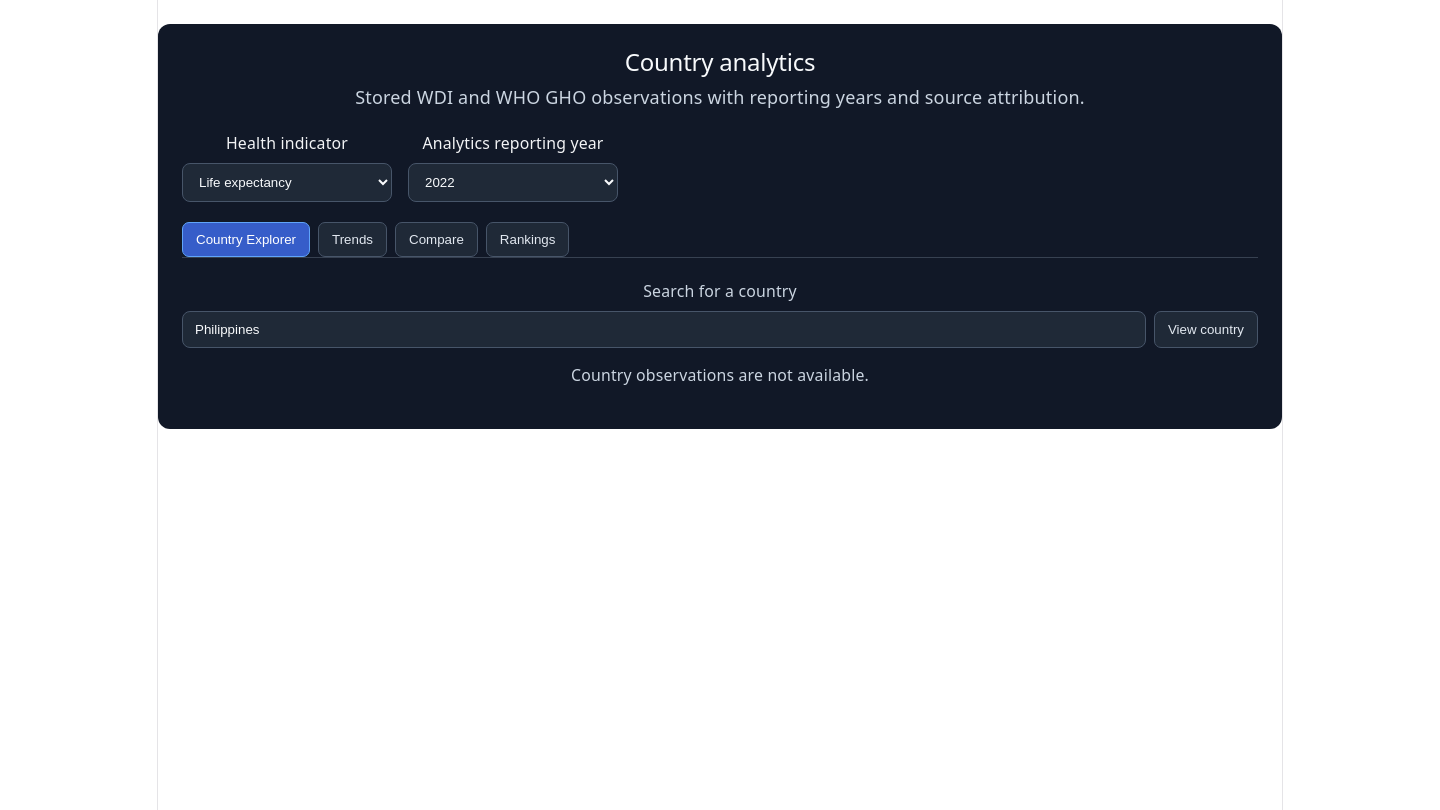
global analytics › labels absolute healthcare-expenditure differences as percentage points
Step 1. Click the tab "Compare" → (436, 239), box [395,222,478,256]
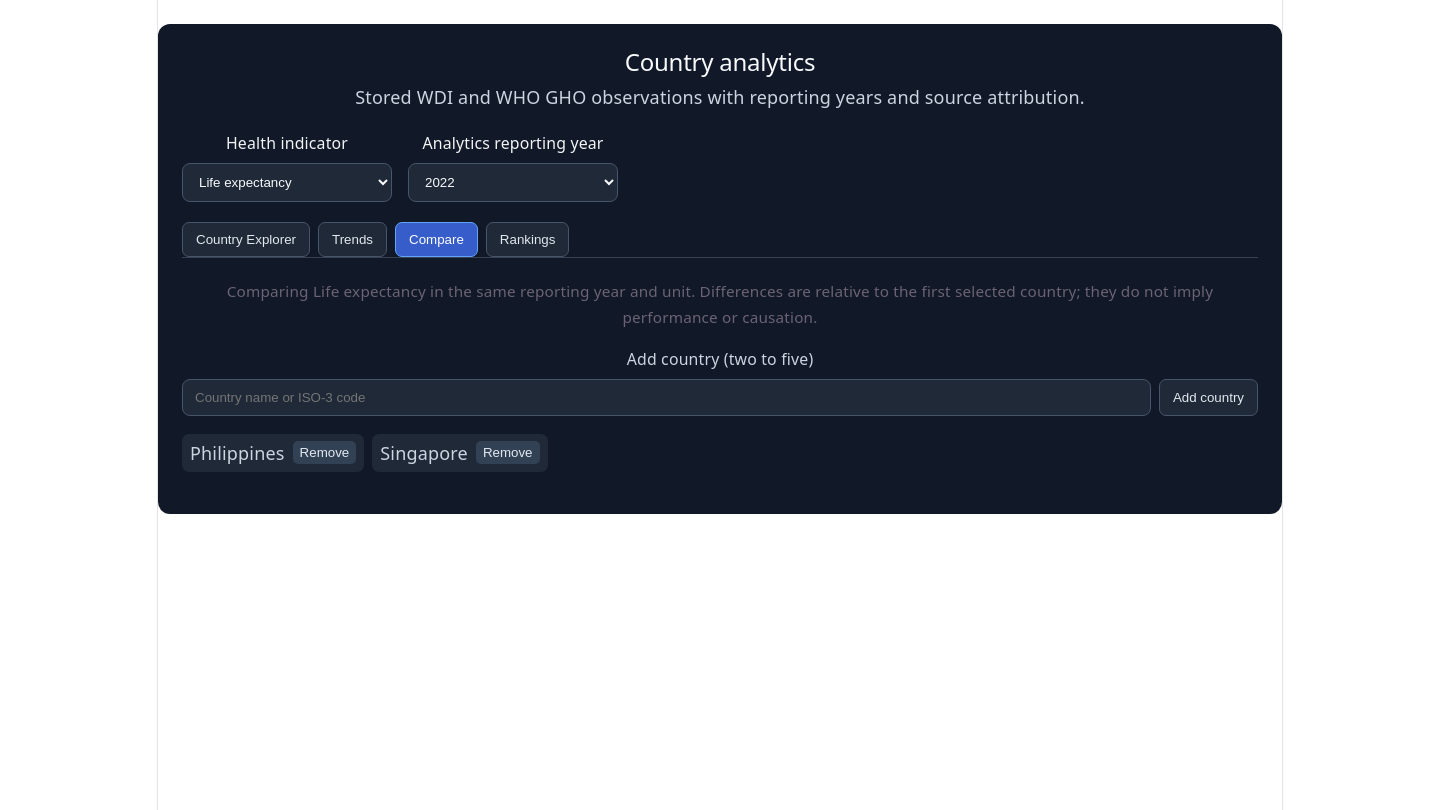
Step 2. Select "Health expenditure" in the dropdown labelled "Health indicator" → (287, 182), box [182,162,392,202]
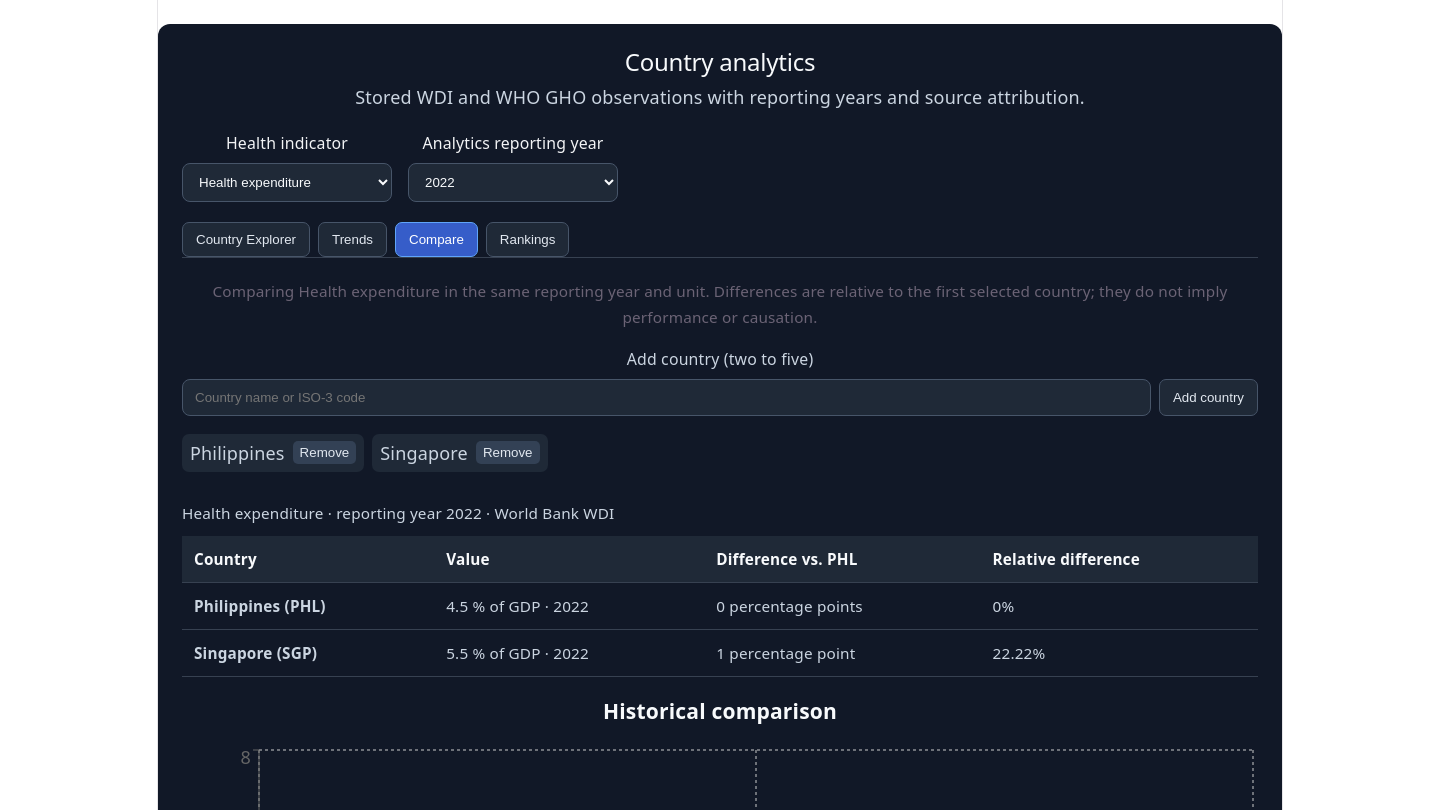
Now the text "1 percentage point" is shown, box [704,630,980,677]
Now the text "22.22%" is shown, box [980,630,1258,677]
